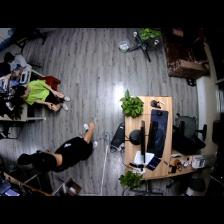normal: (28, 121, 97, 173), (12, 82, 68, 110), (2, 49, 38, 79)
